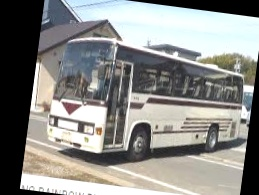bus: (45, 29, 252, 176)
